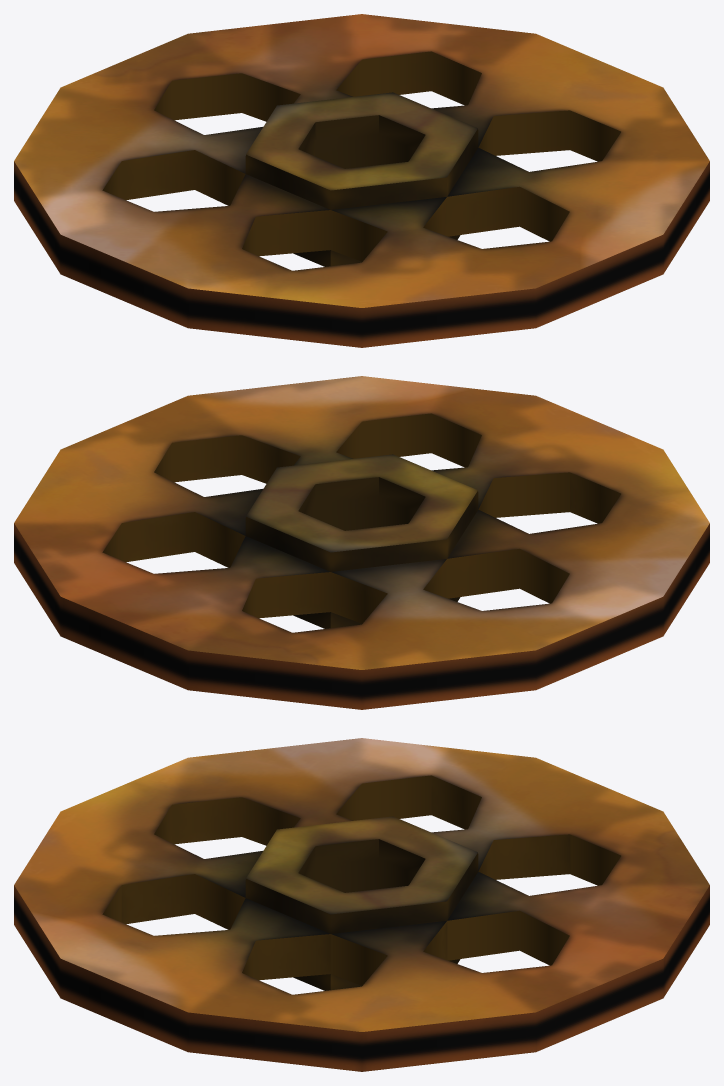
The model's file is MESH_AMB09_Gear.fbx.
3 views of the same model, one above another, from view 1: azimuth 30°, elevation 25°; view 2: azimuth 150°, elevation 25°; view 3: azimuth 270°, elevation 25° (orthographic).
Parts seen in each view (by area): view 1: polySurface139; view 2: polySurface139; view 3: polySurface139.
Part boxes in pixels (left/top/right/bottom): polySurface139: left=14, top=14, right=709, bottom=347; polySurface139: left=14, top=376, right=709, bottom=709; polySurface139: left=14, top=738, right=709, bottom=1071.
Bounding box in the file's own units: 2.04 × 0.2552 × 2.04.
